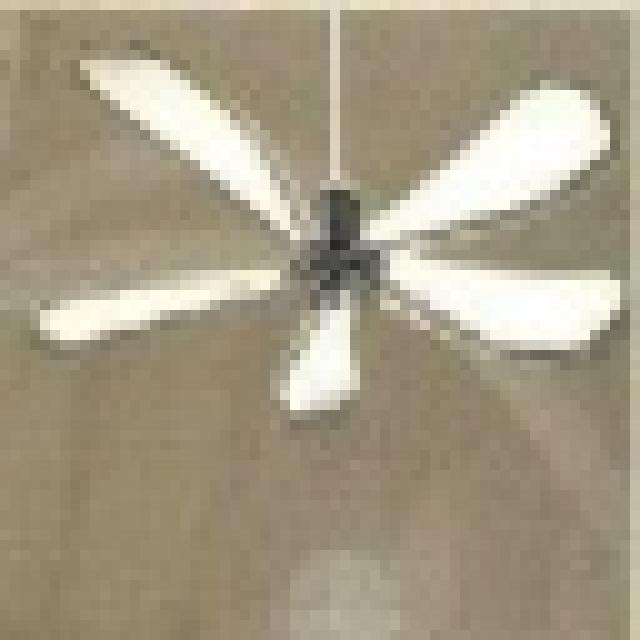Bulb: (24, 44, 632, 391)
